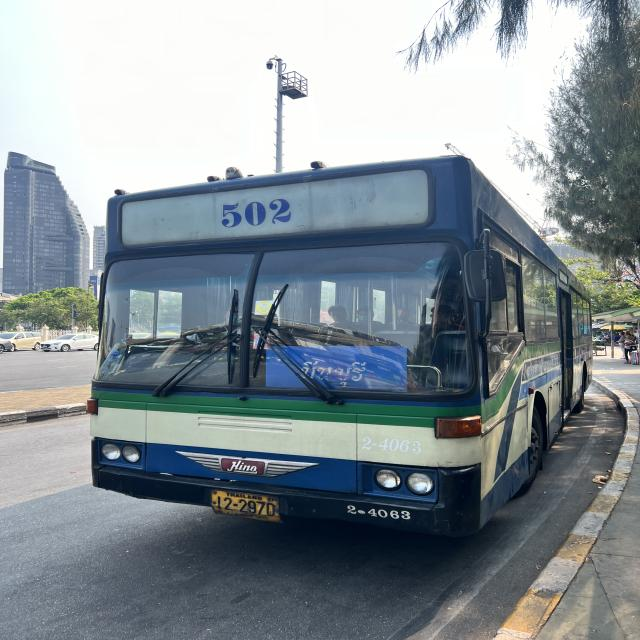BMTA-bus: (89, 150, 592, 540)
Bus-Line-Number: (214, 194, 299, 227)
Destination-Sign-Normal: (270, 346, 410, 390)
